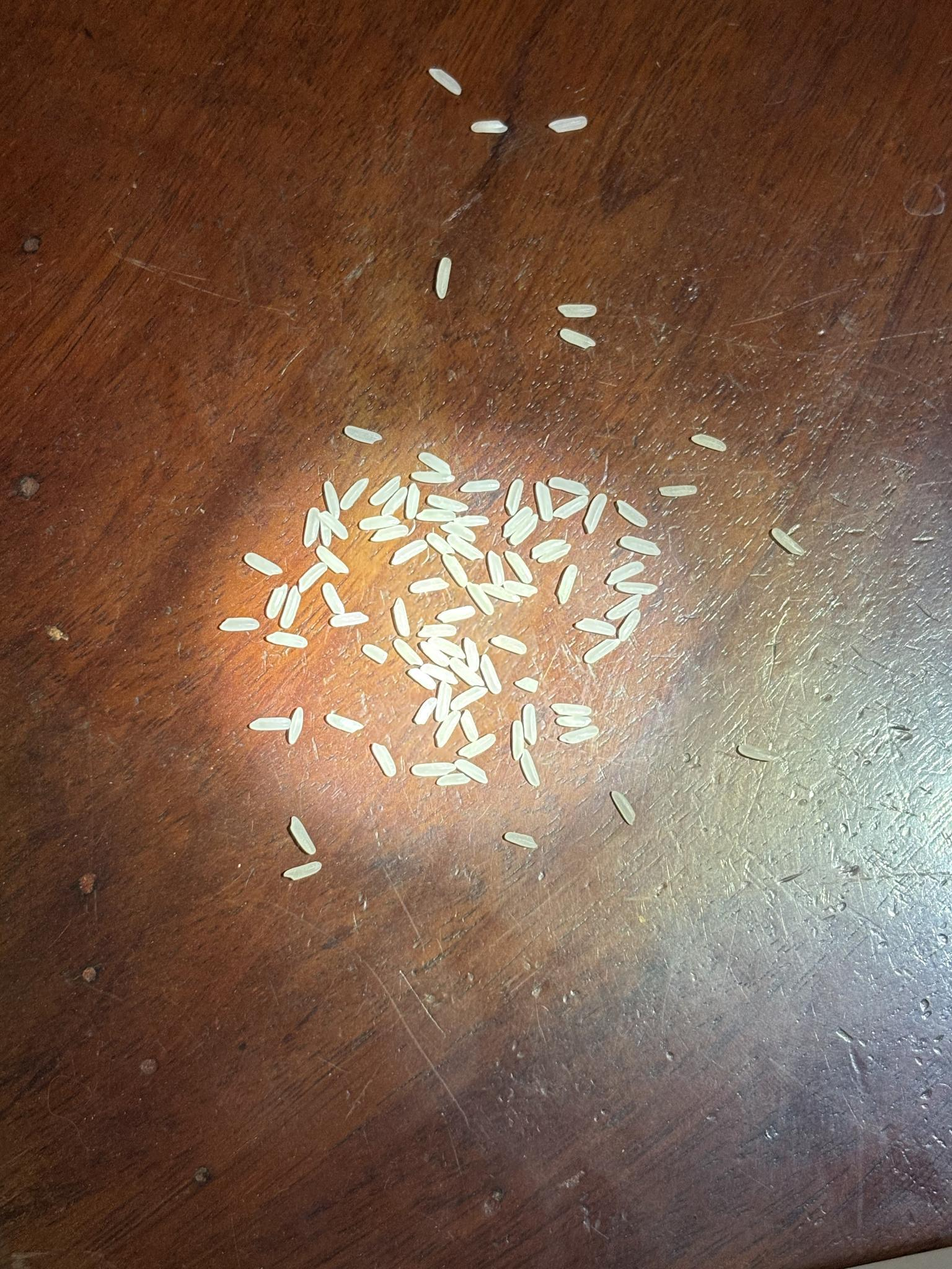Rice-th-y-nh: (517, 703, 543, 746), (449, 657, 485, 688), (434, 709, 462, 748), (504, 720, 530, 761), (458, 733, 496, 760), (316, 545, 349, 576), (504, 550, 534, 584), (420, 661, 459, 687), (447, 534, 484, 561), (450, 685, 487, 712), (289, 816, 315, 854), (466, 582, 495, 616), (480, 581, 521, 605), (432, 681, 456, 722), (610, 789, 637, 825), (584, 638, 621, 664), (605, 594, 642, 620), (391, 539, 428, 565), (502, 507, 533, 538), (426, 636, 466, 660), (556, 564, 580, 604), (429, 67, 462, 96), (441, 553, 469, 587), (479, 654, 502, 695), (393, 637, 424, 667), (509, 515, 540, 545), (369, 476, 401, 505), (454, 758, 488, 785), (244, 552, 282, 576), (518, 749, 542, 787), (280, 587, 302, 628), (411, 759, 456, 779), (298, 561, 327, 592), (584, 494, 607, 533), (341, 478, 369, 510), (606, 561, 644, 584), (419, 641, 451, 668), (771, 529, 804, 555), (560, 724, 599, 746), (371, 743, 396, 777), (321, 582, 346, 615), (619, 536, 660, 556), (490, 634, 527, 656), (320, 511, 348, 540), (617, 500, 647, 527), (381, 487, 408, 517), (302, 507, 322, 547), (437, 604, 475, 625), (485, 551, 507, 587), (554, 496, 588, 519), (392, 598, 412, 637), (266, 630, 307, 649), (503, 577, 538, 599), (575, 618, 615, 637), (359, 513, 399, 532), (266, 585, 288, 619), (535, 482, 554, 521), (370, 524, 409, 543), (418, 621, 457, 640), (549, 115, 588, 134), (409, 576, 448, 595), (427, 494, 468, 512), (551, 700, 592, 718), (420, 452, 452, 475), (618, 610, 641, 642), (441, 521, 476, 542), (531, 538, 566, 559), (549, 477, 589, 495), (416, 506, 456, 524), (459, 710, 481, 742), (411, 469, 455, 485), (326, 714, 363, 733), (407, 667, 437, 690), (505, 479, 524, 515), (284, 862, 322, 880), (414, 697, 438, 725), (323, 482, 341, 519), (555, 712, 592, 730), (560, 329, 595, 348), (345, 426, 381, 444), (537, 545, 571, 564), (462, 637, 481, 671), (426, 533, 455, 555), (288, 707, 305, 744), (435, 258, 451, 297), (616, 581, 657, 596), (504, 831, 538, 849), (330, 611, 368, 627), (692, 434, 726, 451), (405, 483, 421, 519), (249, 717, 290, 731), (437, 771, 470, 788), (362, 643, 388, 664), (220, 617, 259, 631), (558, 304, 596, 317), (461, 480, 499, 493), (471, 120, 507, 133), (453, 515, 489, 527), (515, 676, 540, 693), (659, 486, 697, 496), (320, 523, 333, 547)
